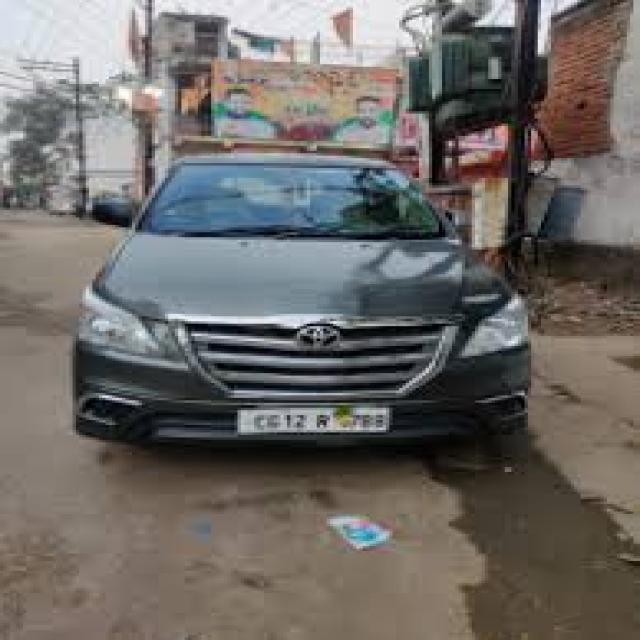light_vehicle: (71, 153, 531, 453)
